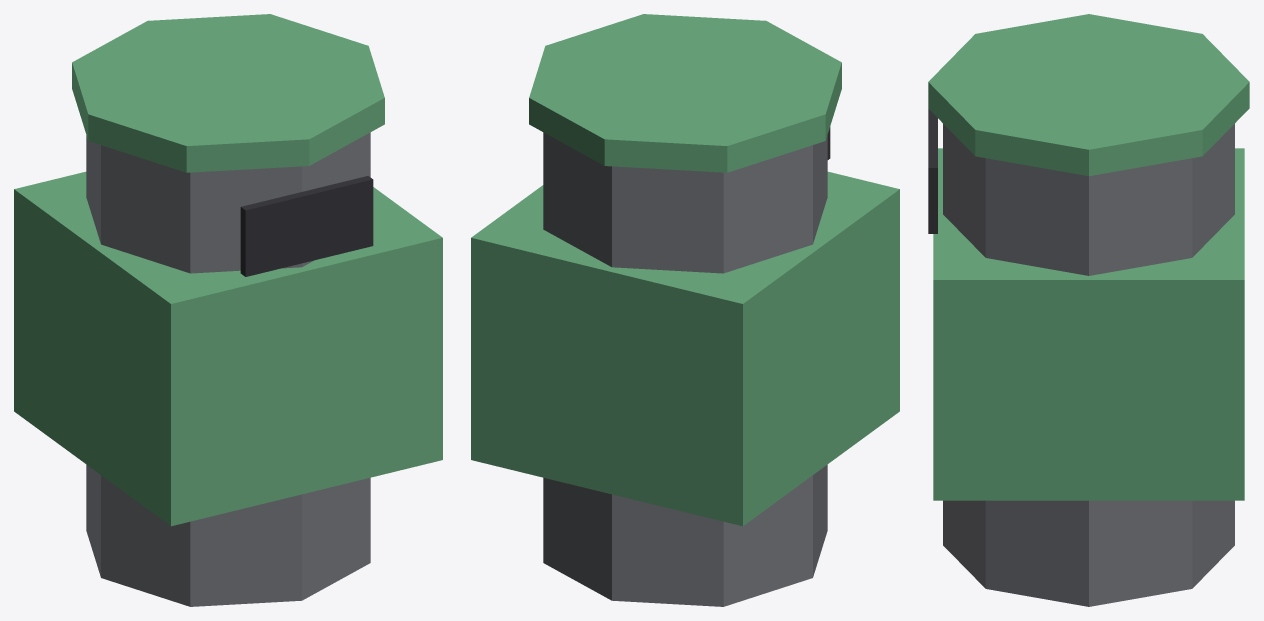
Rendered from Cop_Kutusu.glb.
The picture shows the model from 3 angles, left to right: view 1: azimuth 30°, elevation 25°; view 2: azimuth 150°, elevation 25°; view 3: azimuth 270°, elevation 25°; orthographic projection.
Visible parts, largest first — view 1: Cop_Kutusu; view 2: Cop_Kutusu; view 3: Cop_Kutusu.
Part boxes in pixels (x1,y1,x2,y2): Cop_Kutusu: (14, 14, 442, 606); Cop_Kutusu: (471, 14, 899, 606); Cop_Kutusu: (928, 14, 1249, 606).
Size of the model in its own units: 0.66 by 1.05 by 0.66.
